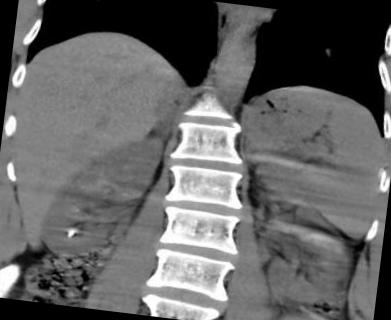Tas_Var: (64, 227, 76, 239), (74, 206, 80, 212)
